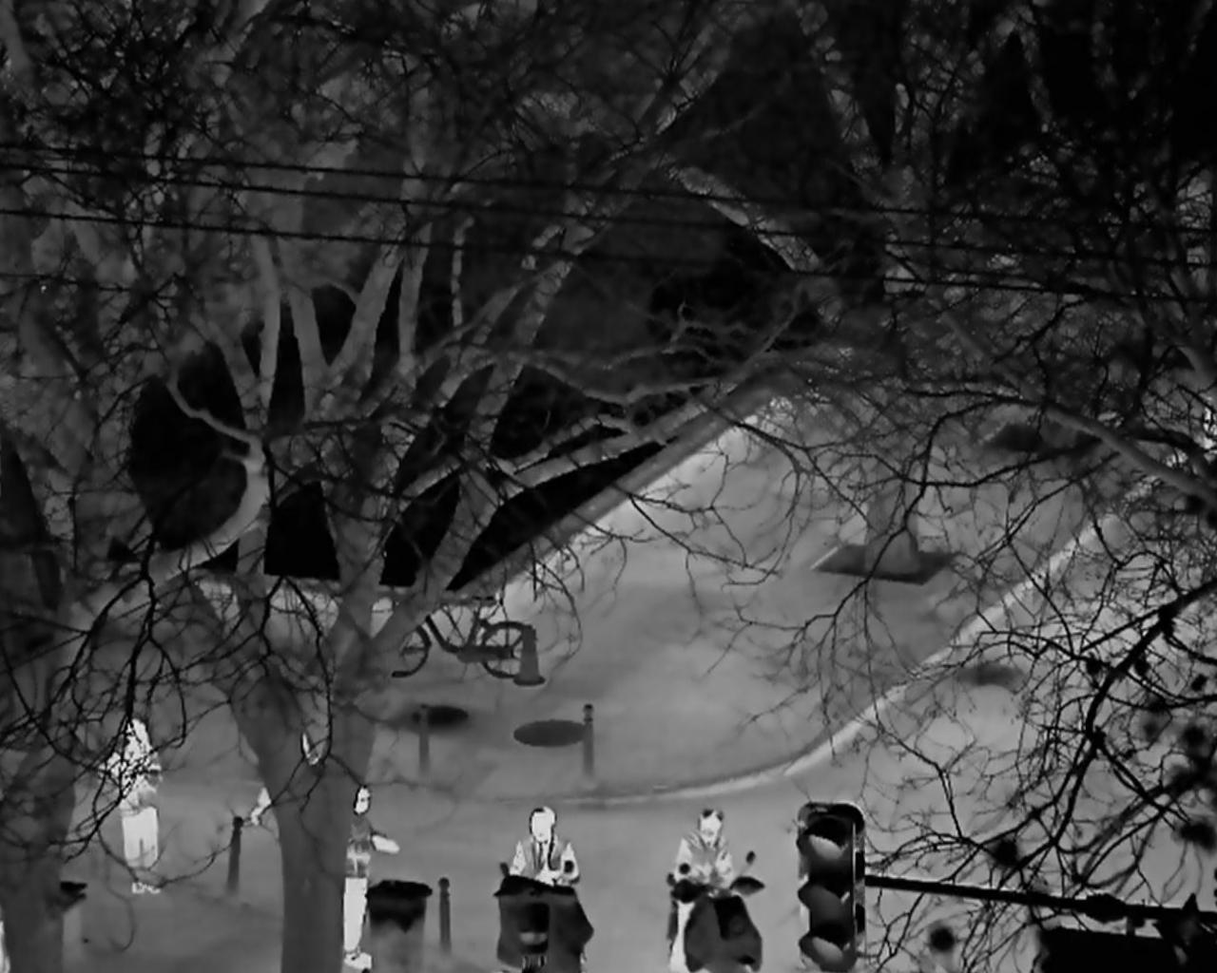person: (668, 804, 737, 973), (105, 718, 168, 898), (342, 783, 401, 972), (508, 805, 581, 888)
